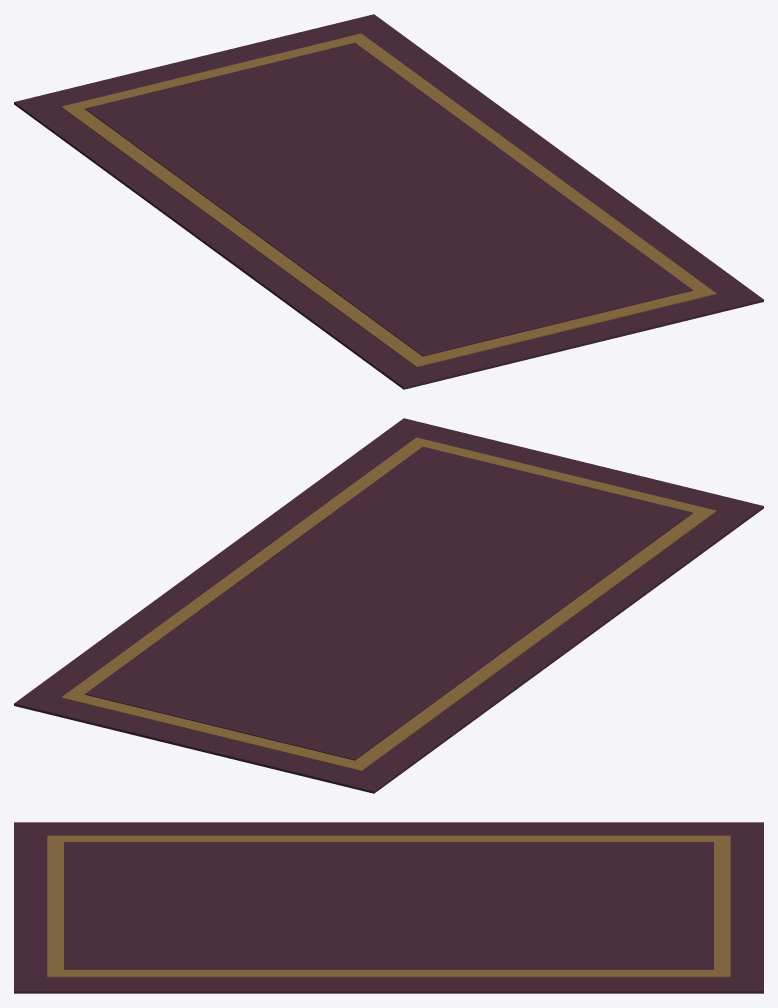
File: rug_long.glb
3 renders of one model, top to bottom at view 1: azimuth 30°, elevation 25°; view 2: azimuth 150°, elevation 25°; view 3: azimuth 270°, elevation 25°, orthographic. The views are drawn at different scales.
Visible parts, largest first — view 1: rug_long; view 2: rug_long; view 3: rug_long.
Part boxes in pixels (box(x1,y1,x2,y2)): rug_long: box(14, 14, 763, 389); rug_long: box(14, 418, 763, 793); rug_long: box(14, 822, 763, 993).
Size of the model in its own units: 2.4 by 0.025 by 4.5.
